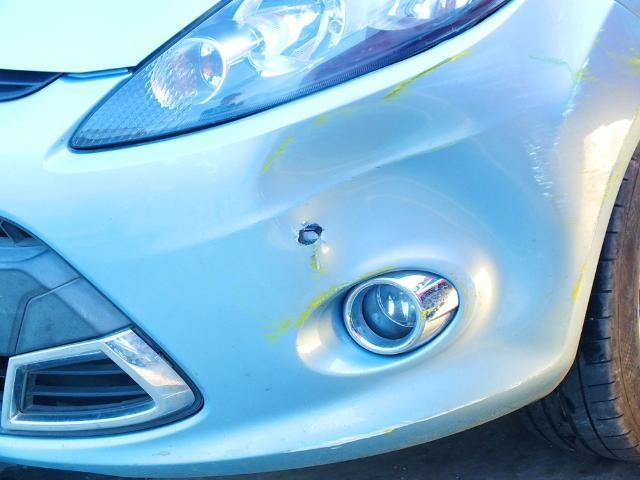dent: (263, 96, 568, 375)
scratch: (380, 22, 640, 308), (268, 247, 399, 348)
